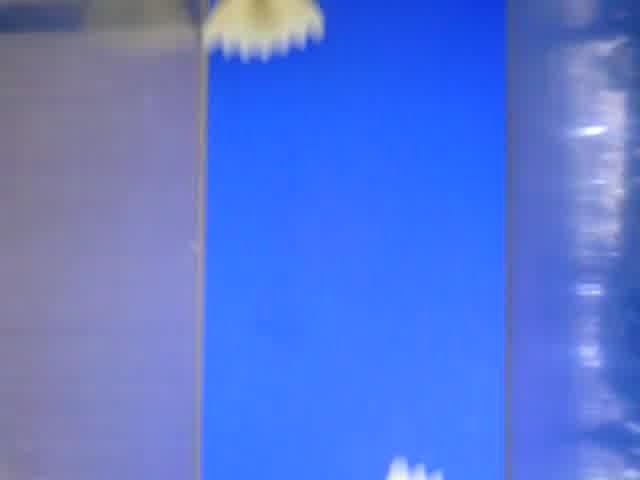farfalle: (202, 1, 328, 59)
